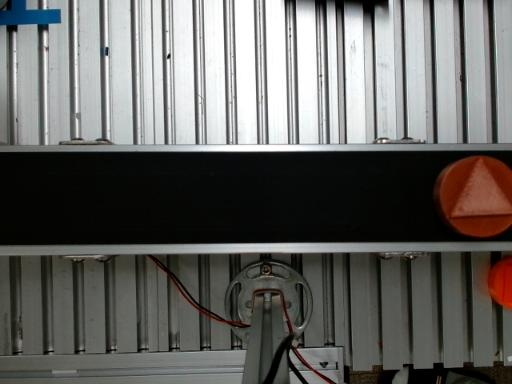Brown_Waper: (434, 156, 511, 238)
Not_Square: (450, 156, 511, 218)
